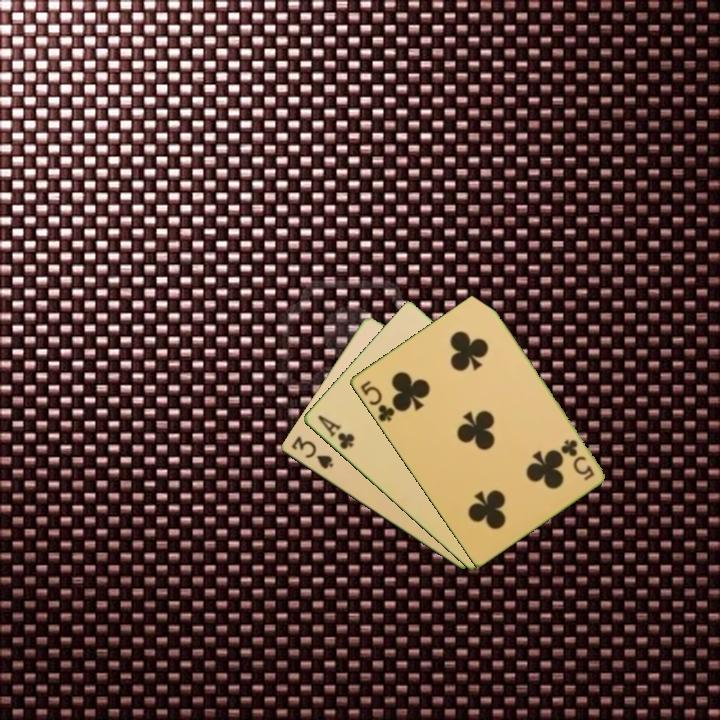3s: (287, 432, 336, 472)
5c: (356, 377, 399, 425), (557, 436, 597, 484)
Ac: (313, 411, 357, 452)
